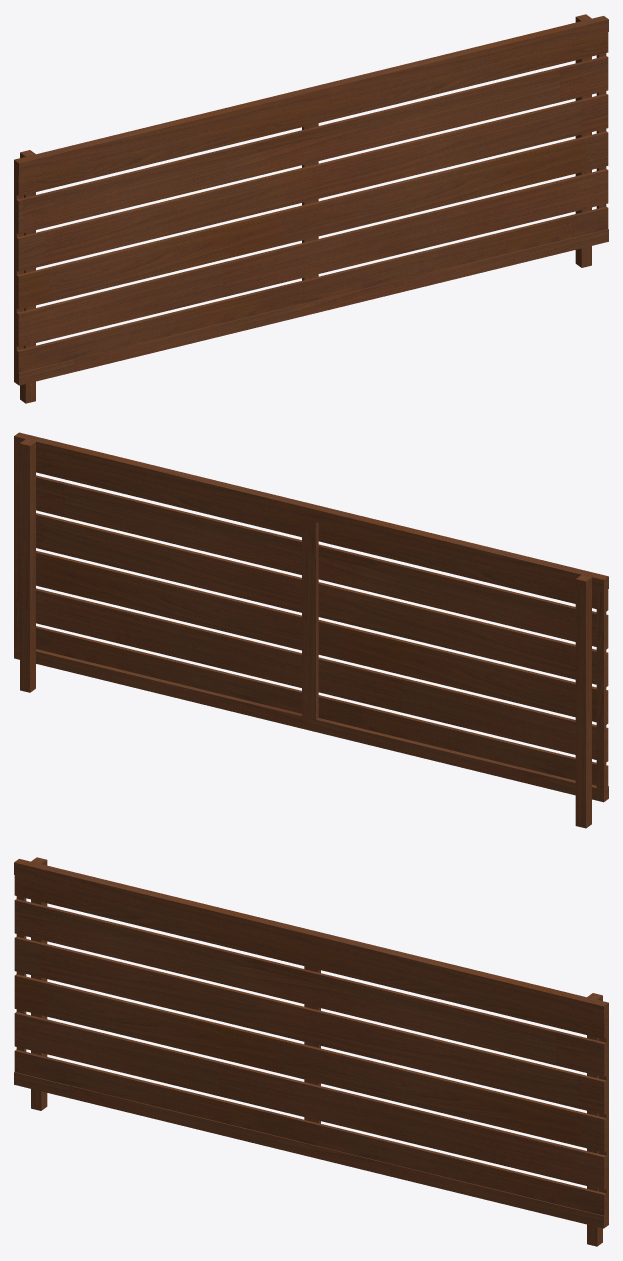
Rendered from everartfencekabenashi_720-1998_walnut.fbx.
The picture shows the model from 3 angles, top to bottom: view 1: azimuth 30°, elevation 25°; view 2: azimuth 150°, elevation 25°; view 3: azimuth 330°, elevation 25°; orthographic projection.
Visible parts, largest first — view 1: everartfencekabenashi_720-1998_walnut; view 2: everartfencekabenashi_720-1998_walnut; view 3: everartfencekabenashi_720-1998_walnut.
Boxes of the visible parts, bbox=[...] form: everartfencekabenashi_720-1998_walnut: bbox=[14, 14, 608, 403]; everartfencekabenashi_720-1998_walnut: bbox=[14, 432, 608, 828]; everartfencekabenashi_720-1998_walnut: bbox=[14, 857, 608, 1246].
Size of the model in its own units: 200 by 80 by 6.5.
1 material, 1 textured.
